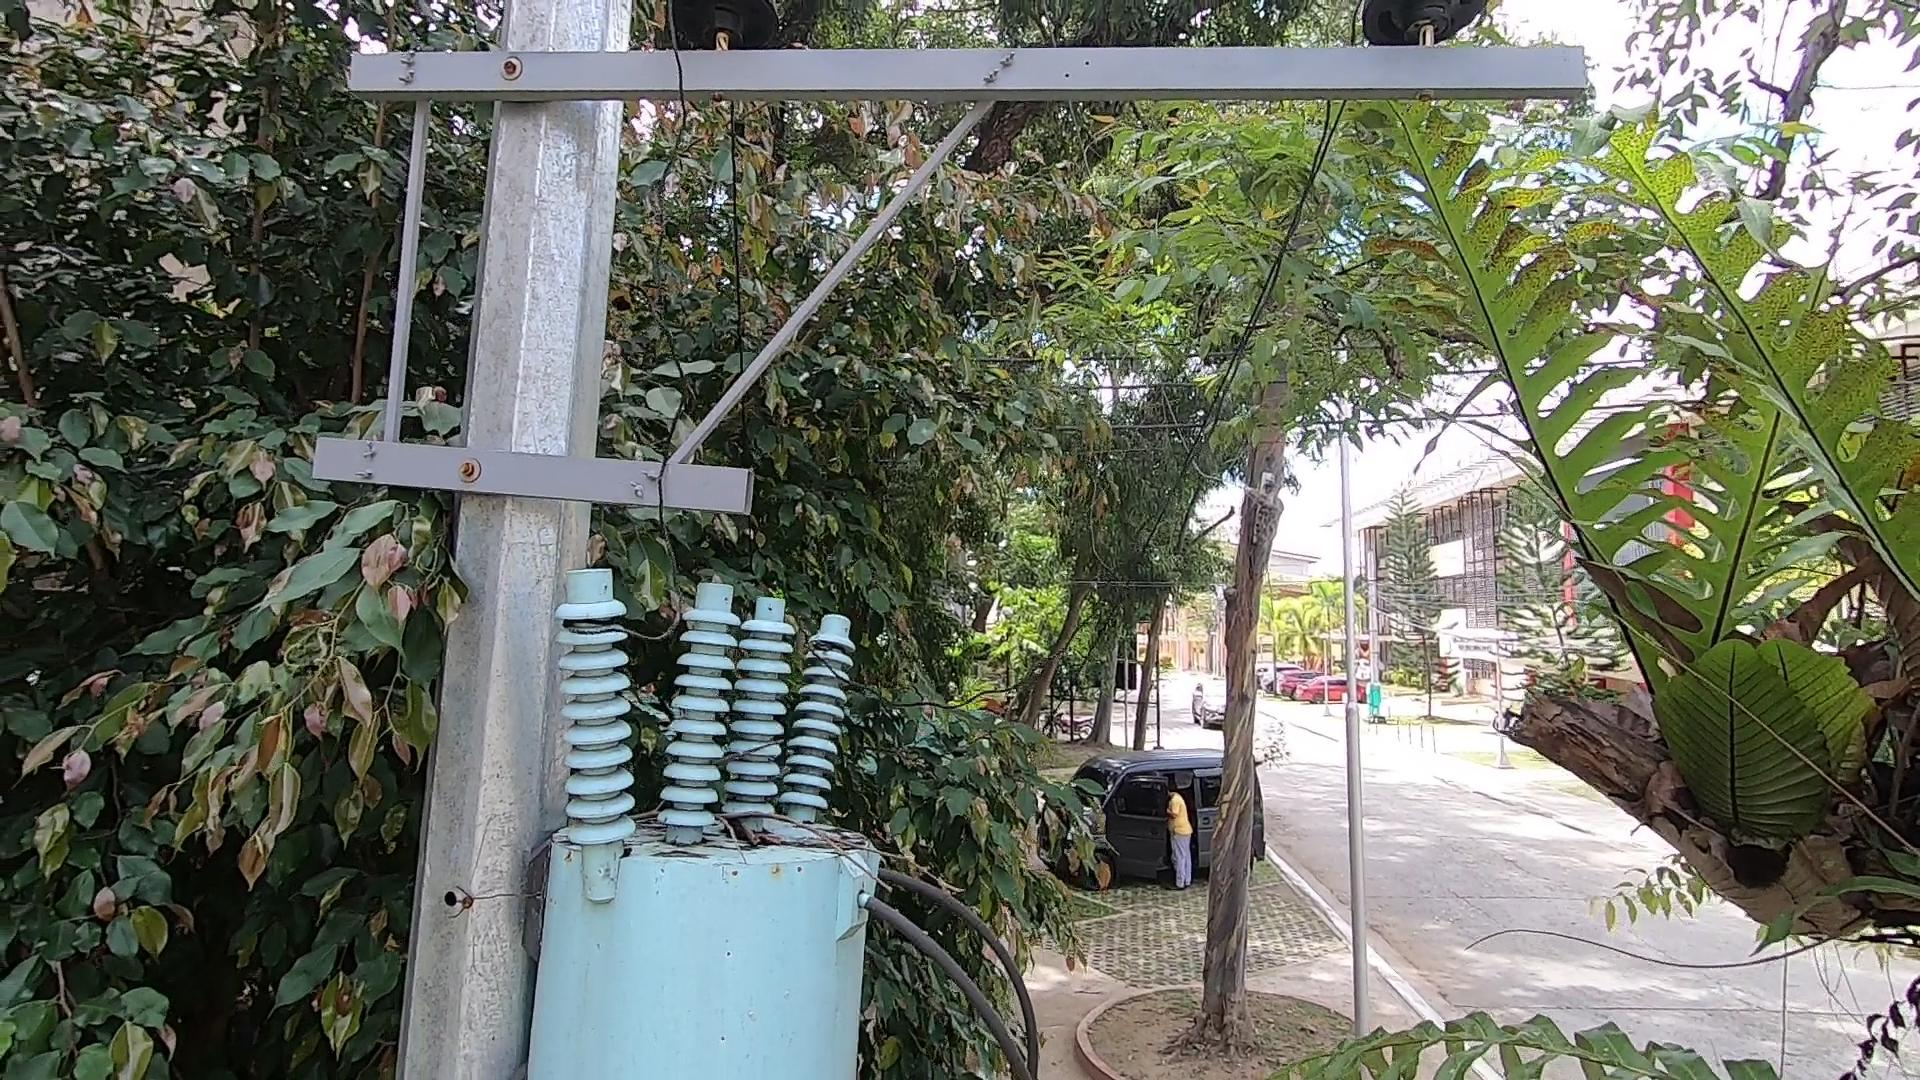leaf: (679, 810, 781, 864)
tree branch: (595, 778, 963, 920)
